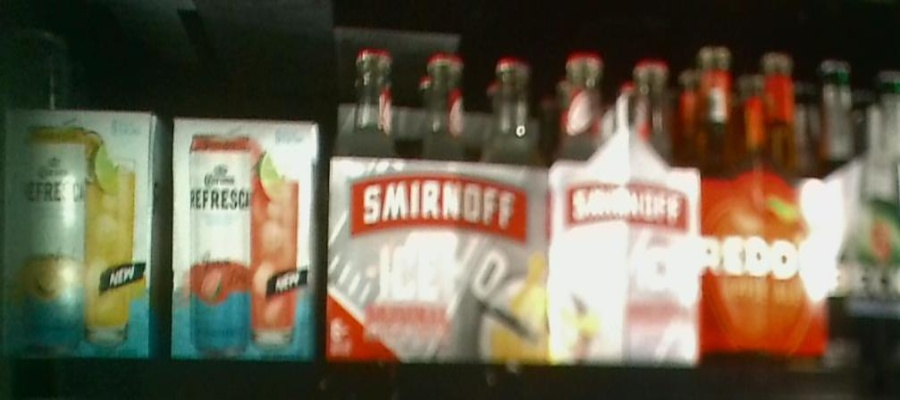bottle: (331, 37, 548, 368), (551, 48, 701, 370), (1, 108, 172, 365), (705, 47, 829, 353), (171, 111, 323, 360)
